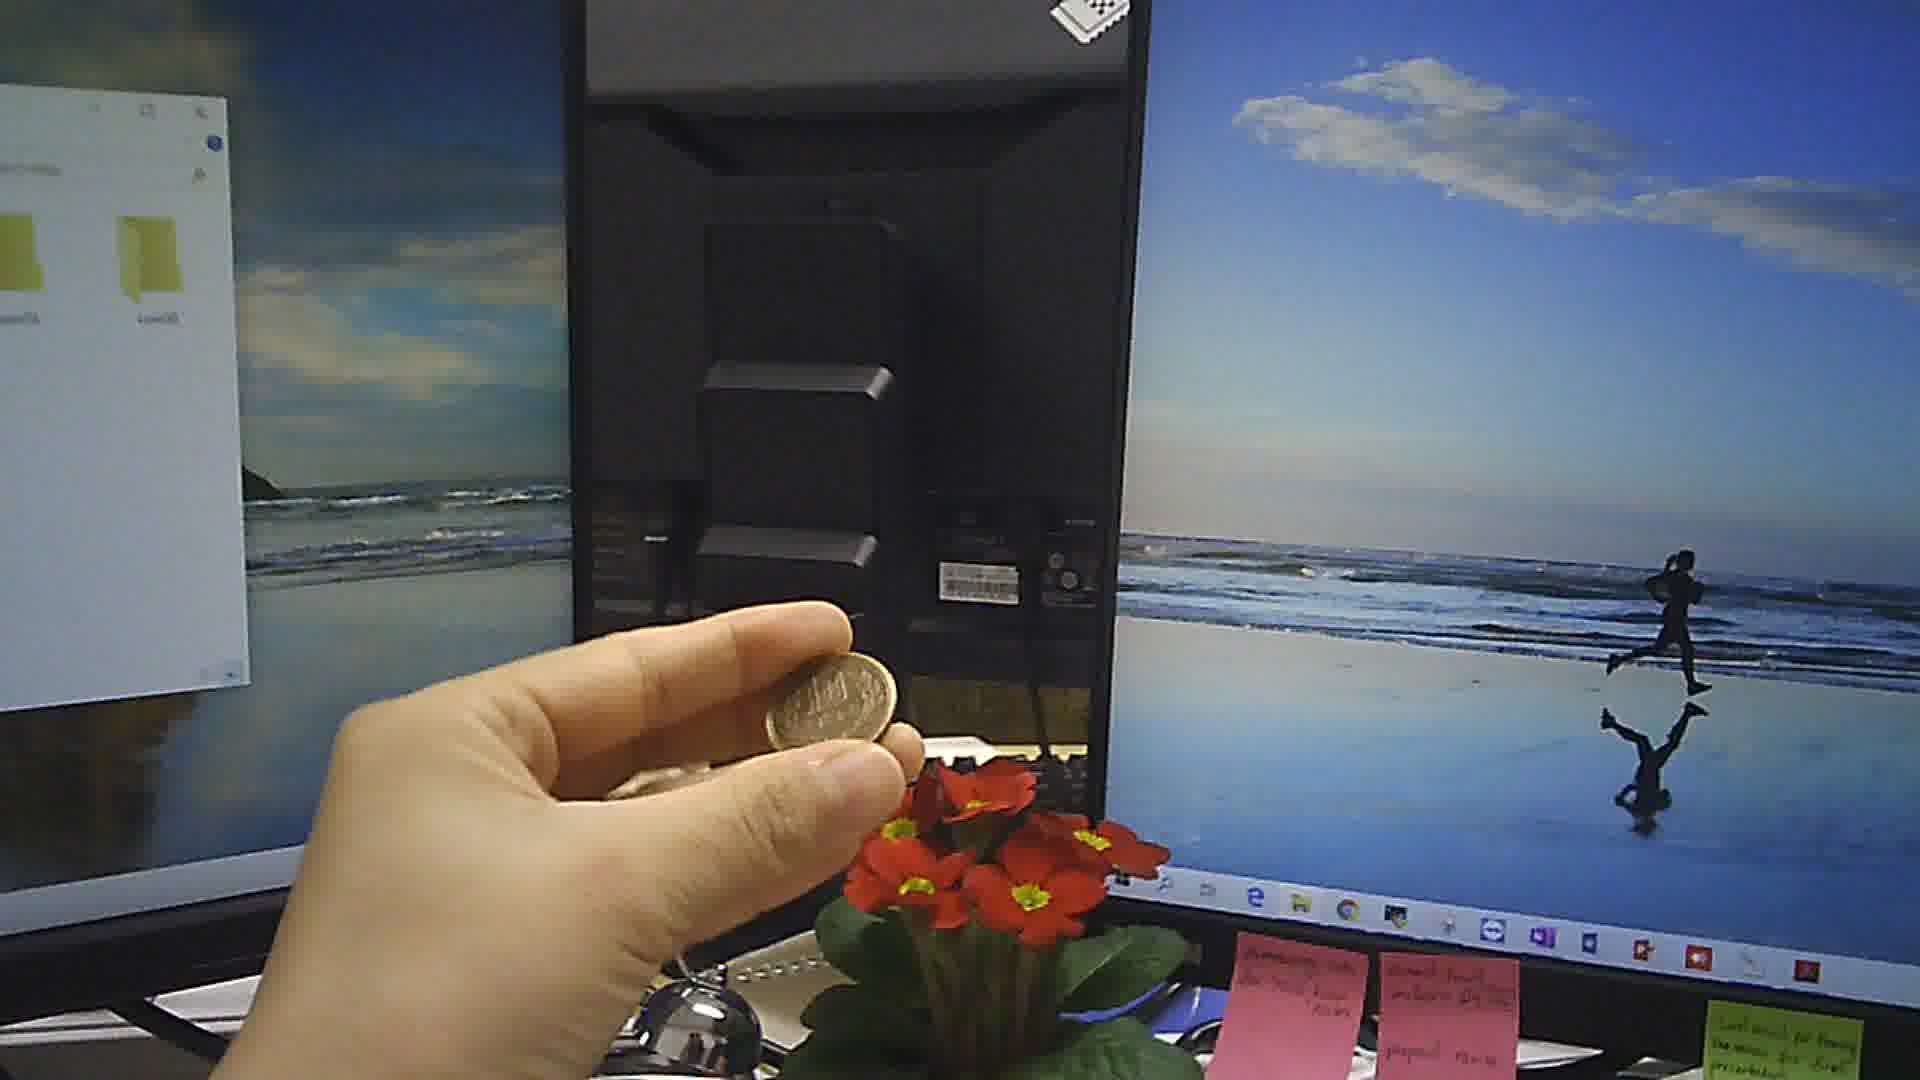10 Yen: (758, 647, 906, 769)
